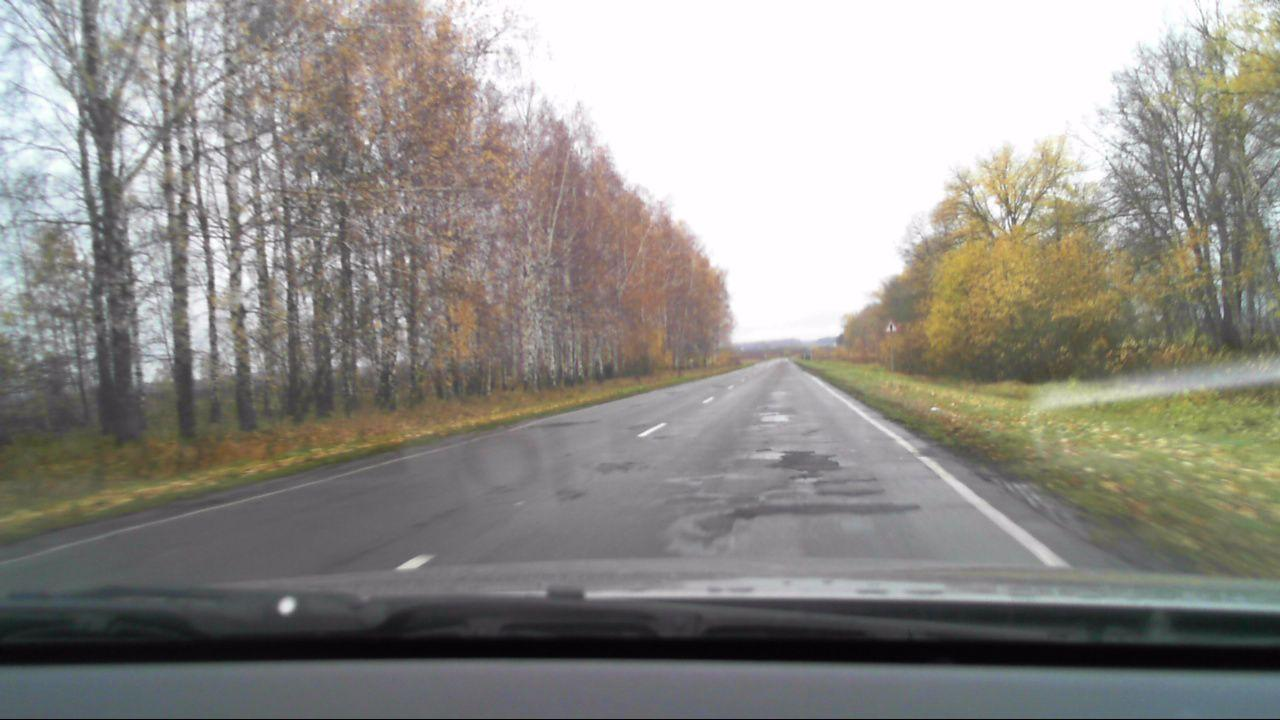2_3_3: (883, 318, 900, 334)
